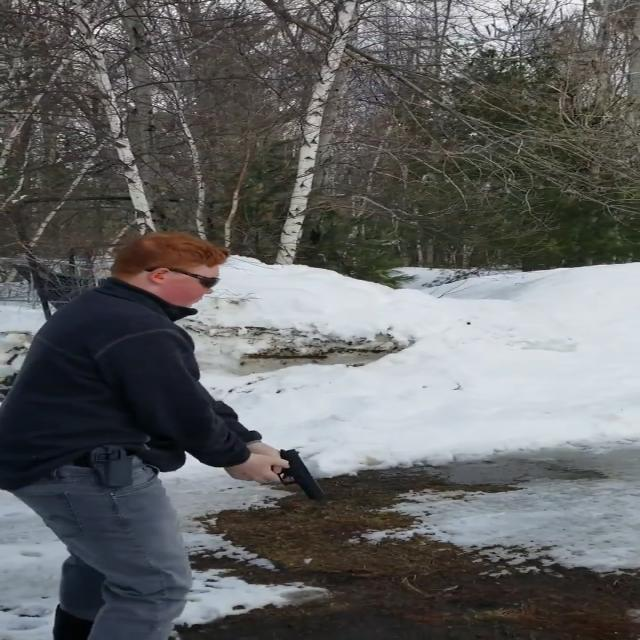Handgun: (249, 441, 331, 504)
